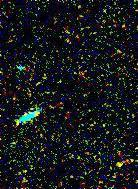star: (103, 149, 133, 179)
